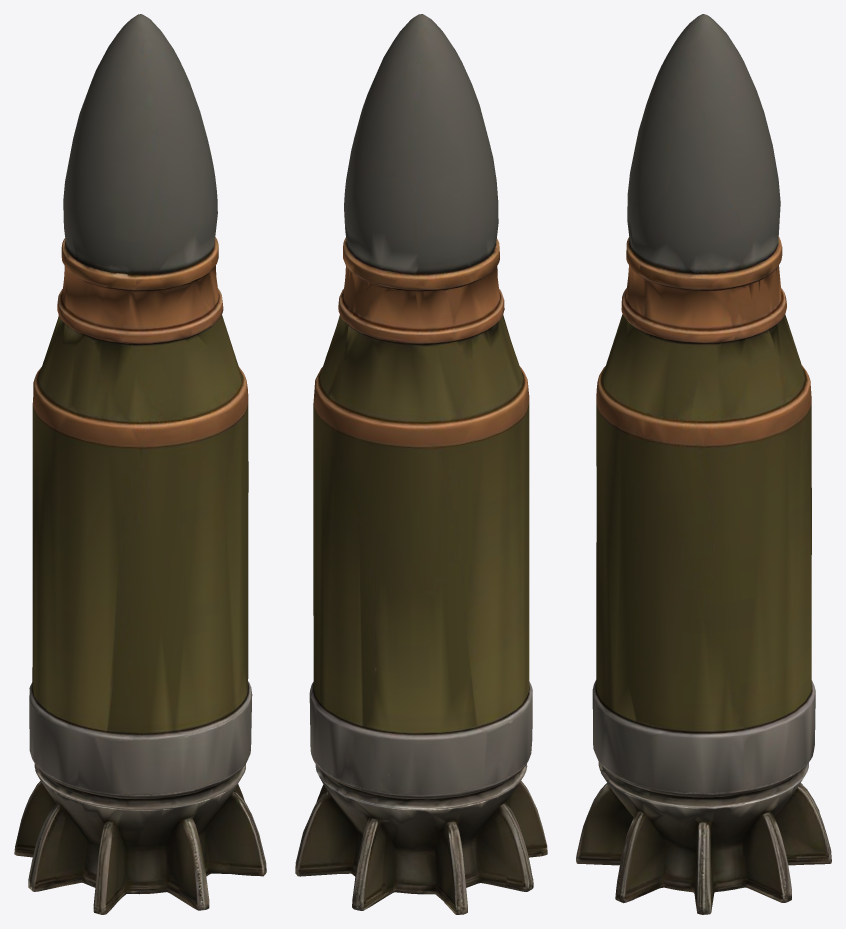
Rendered from artillery_shell.glb.
3 views of the same model, side by side, from view 1: azimuth 30°, elevation 25°; view 2: azimuth 150°, elevation 25°; view 3: azimuth 270°, elevation 25° (orthographic).
Parts seen in each view (by area): view 1: node_0; view 2: node_0; view 3: node_0.
Part boxes in pixels (x1=…): node_0: x1=14, y1=14, x2=266, y2=914; node_0: x1=295, y1=14, x2=547, y2=914; node_0: x1=576, y1=14, x2=831, y2=914.
Size of the model in its own units: 0.3127 by 1.16 by 0.3172.
Materials: 1 (1 with a texture image).
